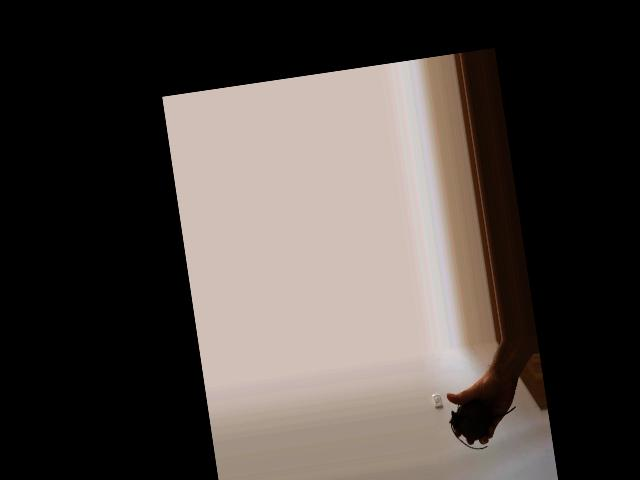beet: (447, 396, 521, 453)
